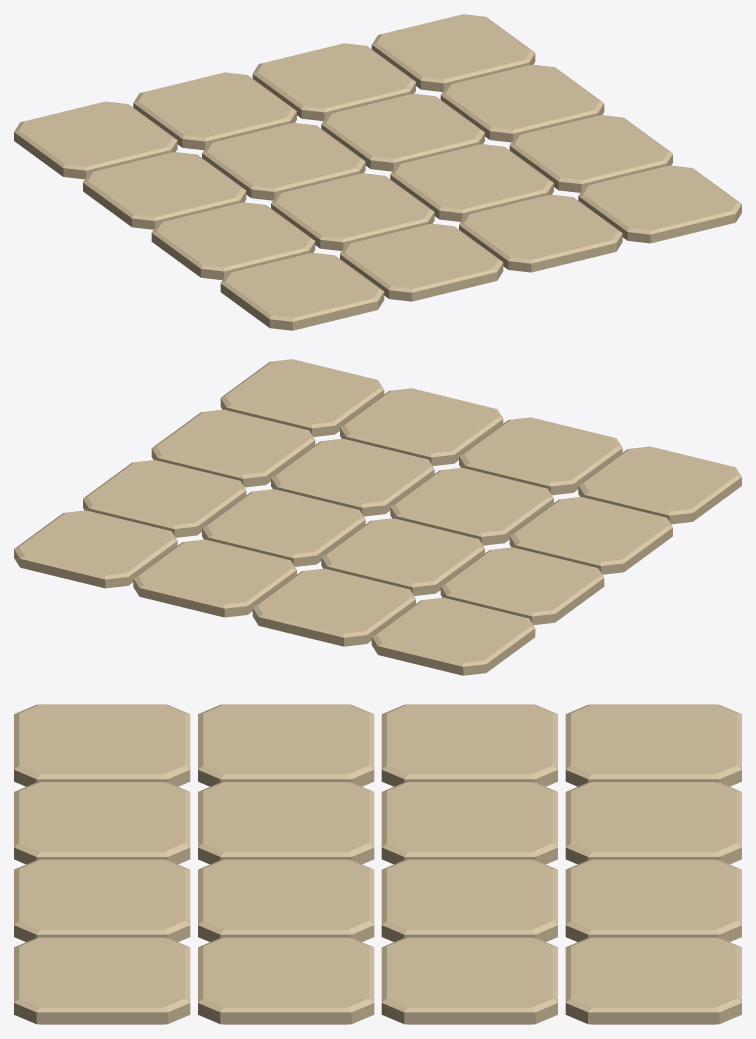
File: road.glb
3 views of the same model, one above another, from view 1: azimuth 30°, elevation 25°; view 2: azimuth 150°, elevation 25°; view 3: azimuth 270°, elevation 25° (orthographic). The views are drawn at different scales.
Parts seen in each view (by area): view 1: _MeshInstance3D_230, _MeshInstance3D_234, _MeshInstance3D_238, _MeshInstance3D_242, _MeshInstance3D_229, Paving, _MeshInstance3D_228, _MeshInstance3D_240, _MeshInstance3D_239, _MeshInstance3D_232, _MeshInstance3D_233, _MeshInstance3D_236 (+4 smaller); view 2: Paving, _MeshInstance3D_231, _MeshInstance3D_235, _MeshInstance3D_239, _MeshInstance3D_228, _MeshInstance3D_230, _MeshInstance3D_229, _MeshInstance3D_241, _MeshInstance3D_242, _MeshInstance3D_232, _MeshInstance3D_233, _MeshInstance3D_236 (+4 smaller); view 3: _MeshInstance3D_239, _MeshInstance3D_242, _MeshInstance3D_240, _MeshInstance3D_241, _MeshInstance3D_235, _MeshInstance3D_236, _MeshInstance3D_237, _MeshInstance3D_238, _MeshInstance3D_228, _MeshInstance3D_229, Paving, _MeshInstance3D_230 (+4 smaller).
Boxes of the visible parts, x1,y1,x2,y2 form: _MeshInstance3D_230: (220,252,384,330); _MeshInstance3D_234: (340,223,503,301); _MeshInstance3D_238: (459,194,622,272); _MeshInstance3D_242: (578,165,741,243); _MeshInstance3D_229: (151,202,315,280); Paving: (14,101,177,179); _MeshInstance3D_228: (83,152,246,229); _MeshInstance3D_240: (440,64,604,142); _MeshInstance3D_239: (371,14,535,91); _MeshInstance3D_232: (202,123,365,200); _MeshInstance3D_233: (271,173,434,250); _MeshInstance3D_236: (321,93,484,171); Paving: (371,597,535,675); _MeshInstance3D_231: (252,568,415,646); _MeshInstance3D_235: (133,539,296,617); _MeshInstance3D_239: (14,510,177,588); _MeshInstance3D_228: (440,547,604,625); _MeshInstance3D_230: (578,446,741,524); _MeshInstance3D_229: (509,497,672,574); _MeshInstance3D_241: (151,409,315,487); _MeshInstance3D_242: (220,359,384,436); _MeshInstance3D_232: (321,518,484,595); _MeshInstance3D_233: (390,468,553,545); _MeshInstance3D_236: (202,489,365,566); _MeshInstance3D_239: (565,937,741,1024); _MeshInstance3D_242: (14,937,190,1024); _MeshInstance3D_240: (381,937,557,1024); _MeshInstance3D_241: (198,937,374,1024); _MeshInstance3D_235: (565,859,741,941); _MeshInstance3D_236: (381,859,557,941); _MeshInstance3D_237: (198,859,374,941); _MeshInstance3D_238: (14,859,190,941); _MeshInstance3D_228: (381,704,557,786); _MeshInstance3D_229: (198,704,374,786); Paving: (565,704,741,786); _MeshInstance3D_230: (14,704,190,786).
Bounding box in the file's own units: 1.94 × 0.05 × 1.94.
